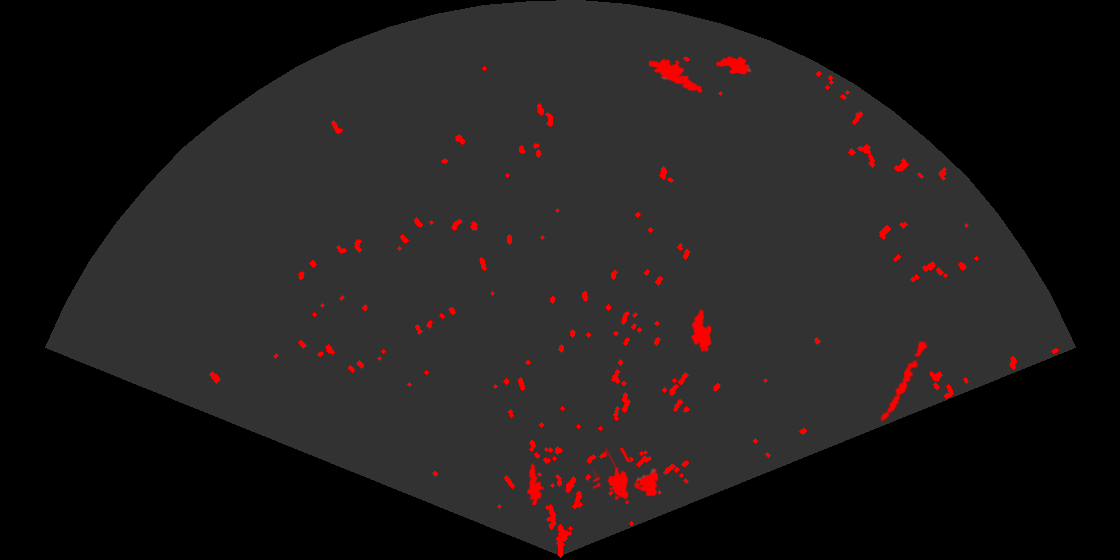AUV: (689, 307, 713, 354), (714, 55, 753, 77)
cage: (593, 448, 660, 506)
chain: (879, 336, 929, 423)
frogman: (649, 57, 705, 94), (525, 462, 546, 505)
